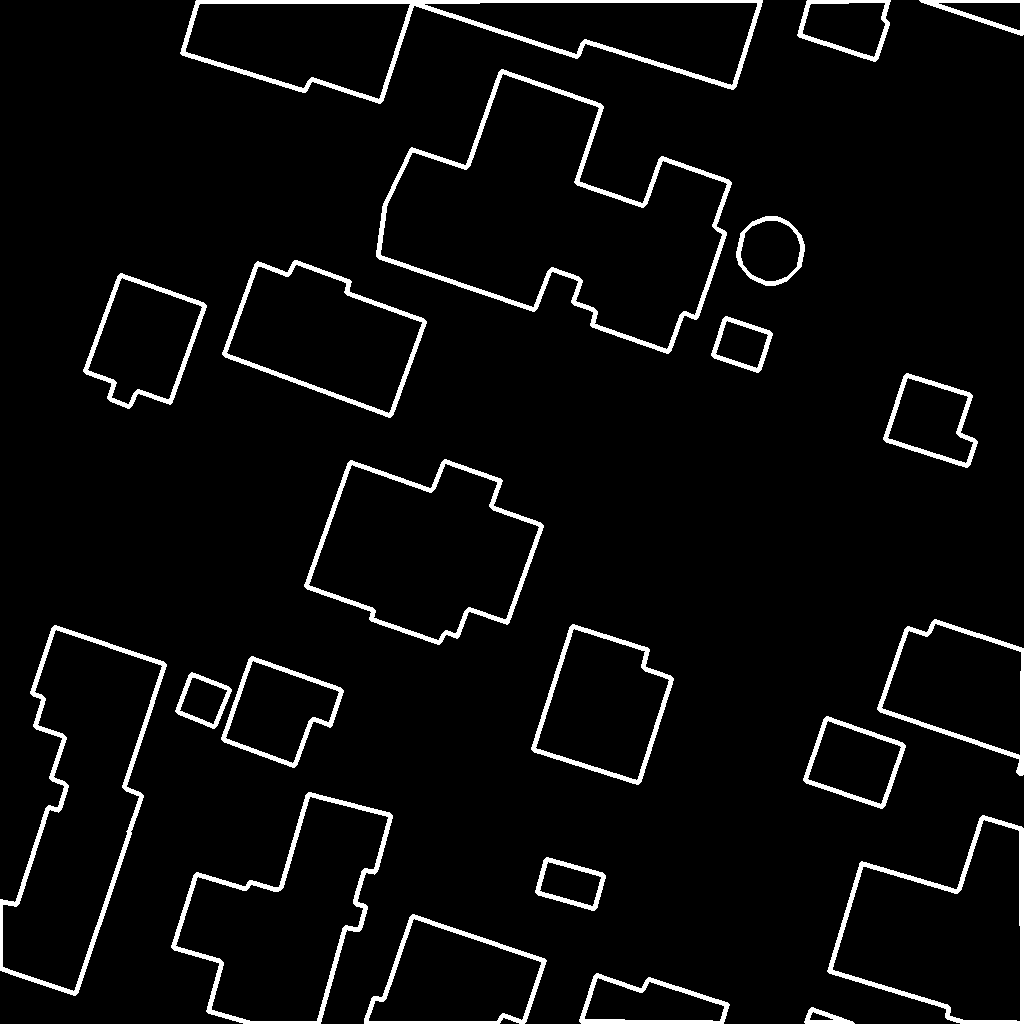building: (378, 71, 731, 353), (182, 0, 762, 103), (173, 794, 392, 1024), (306, 461, 543, 644), (829, 817, 1024, 1024), (224, 262, 426, 417), (32, 627, 166, 832), (0, 807, 131, 995), (879, 621, 1024, 775), (533, 626, 673, 784), (366, 916, 546, 1024), (85, 275, 206, 408), (223, 658, 343, 767), (805, 718, 905, 808), (885, 375, 977, 467), (581, 975, 729, 1024), (799, 0, 890, 61), (738, 218, 804, 284), (920, 0, 1024, 35), (537, 859, 605, 910), (713, 318, 772, 372), (177, 674, 231, 728), (806, 1009, 854, 1024)
